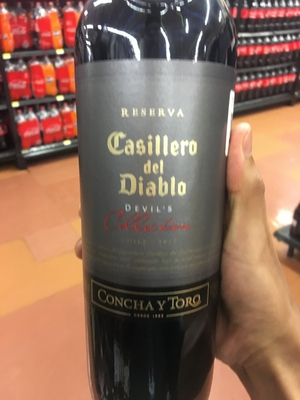casillero del diablo devils collection rojo: (64, 11, 234, 400)
